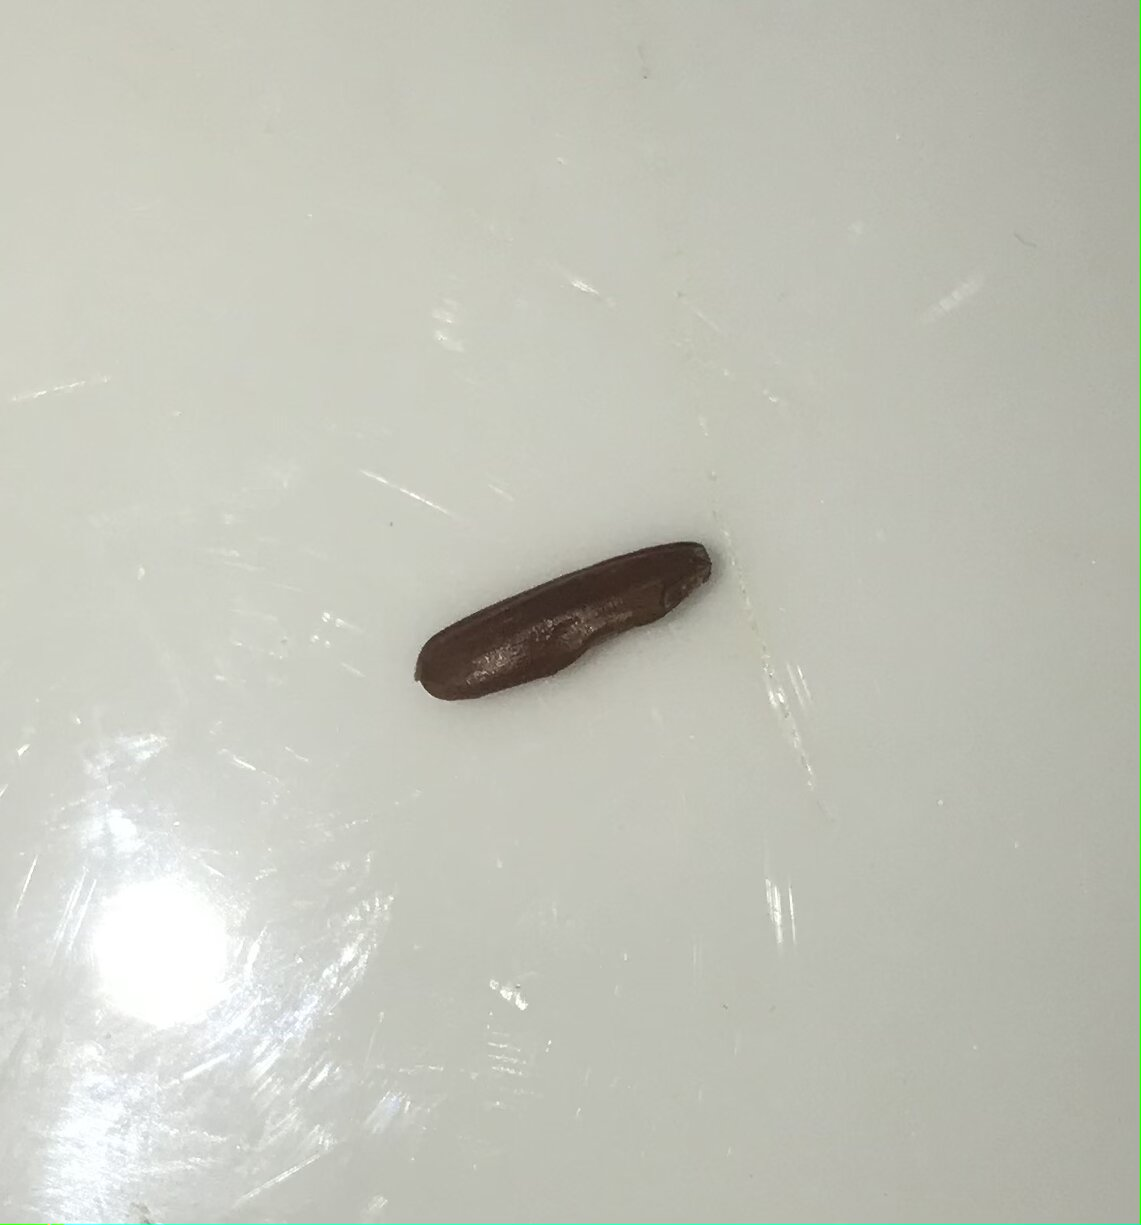Gao Huyet Rong: (409, 533, 717, 704)
